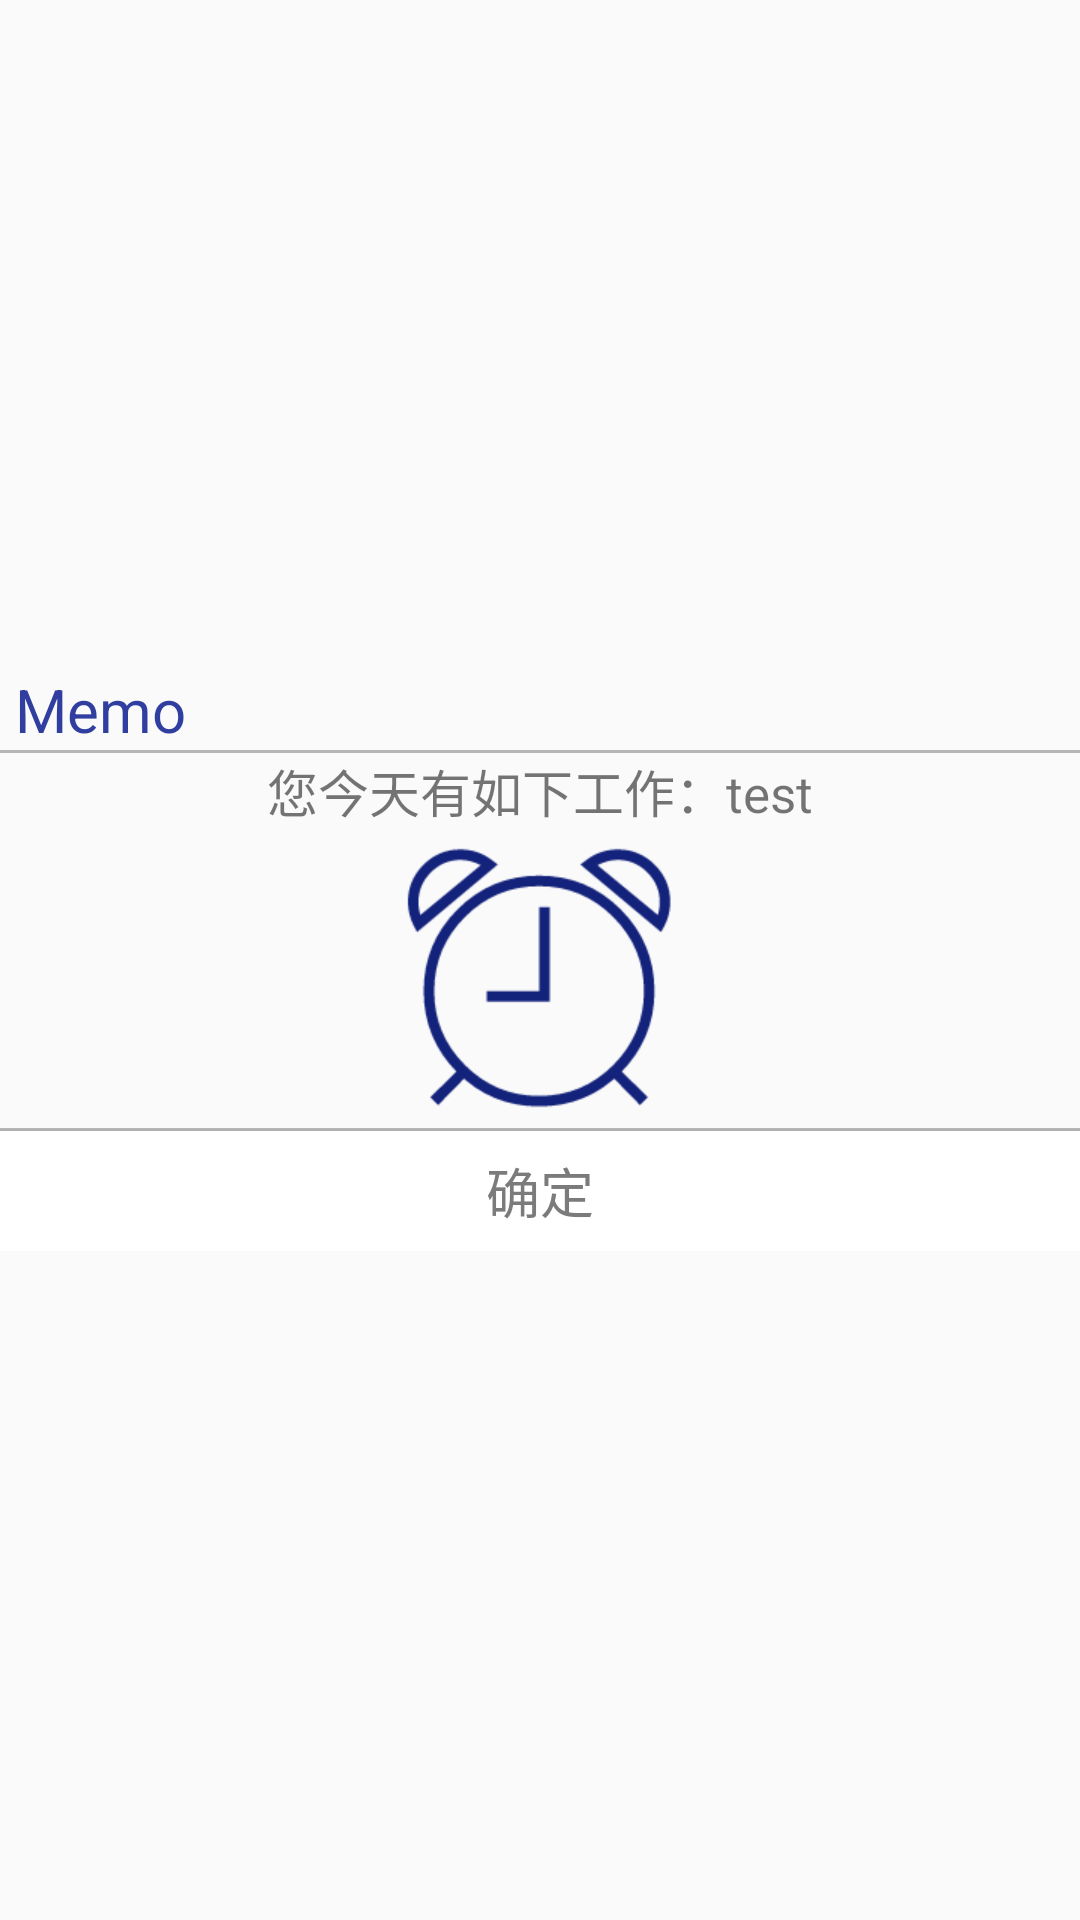

Screen size 1080 × 1920. Icon name, then its center in pixels as point (x, y):
alarm: point (539, 977)
